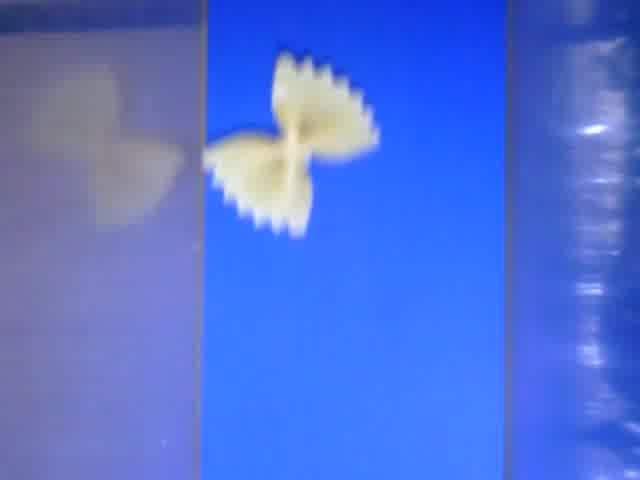farfalle: (203, 51, 383, 242)
